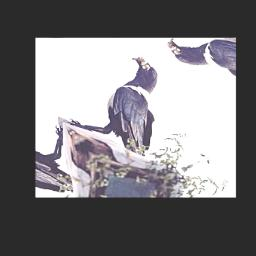Crow: (48, 53, 208, 175)
